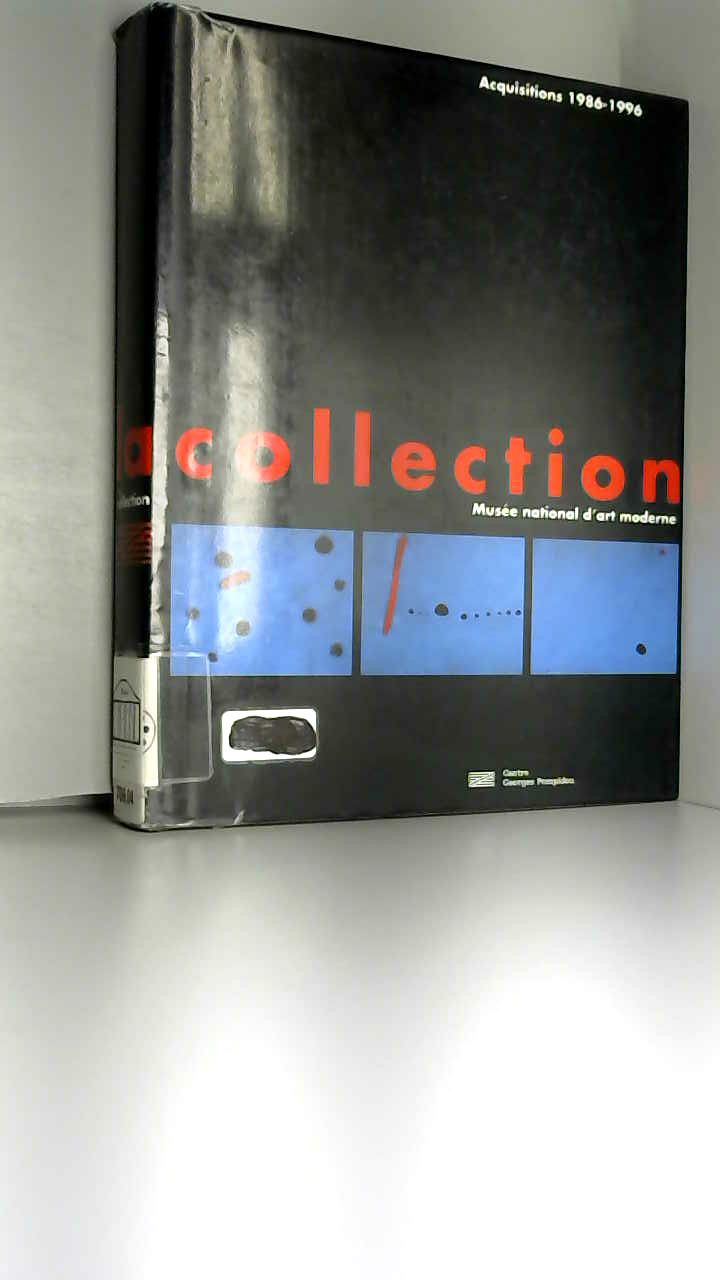book: (80, 0, 720, 856)
